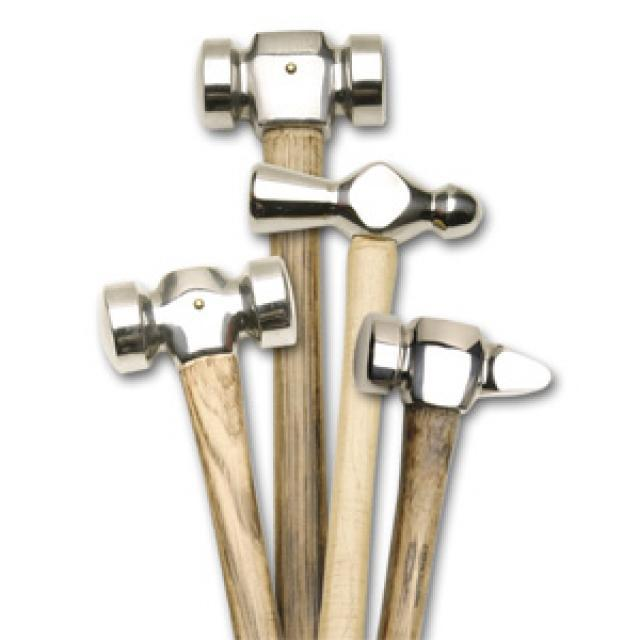hammer: (73, 251, 314, 631), (356, 287, 555, 640), (170, 11, 396, 152), (243, 150, 494, 259)
